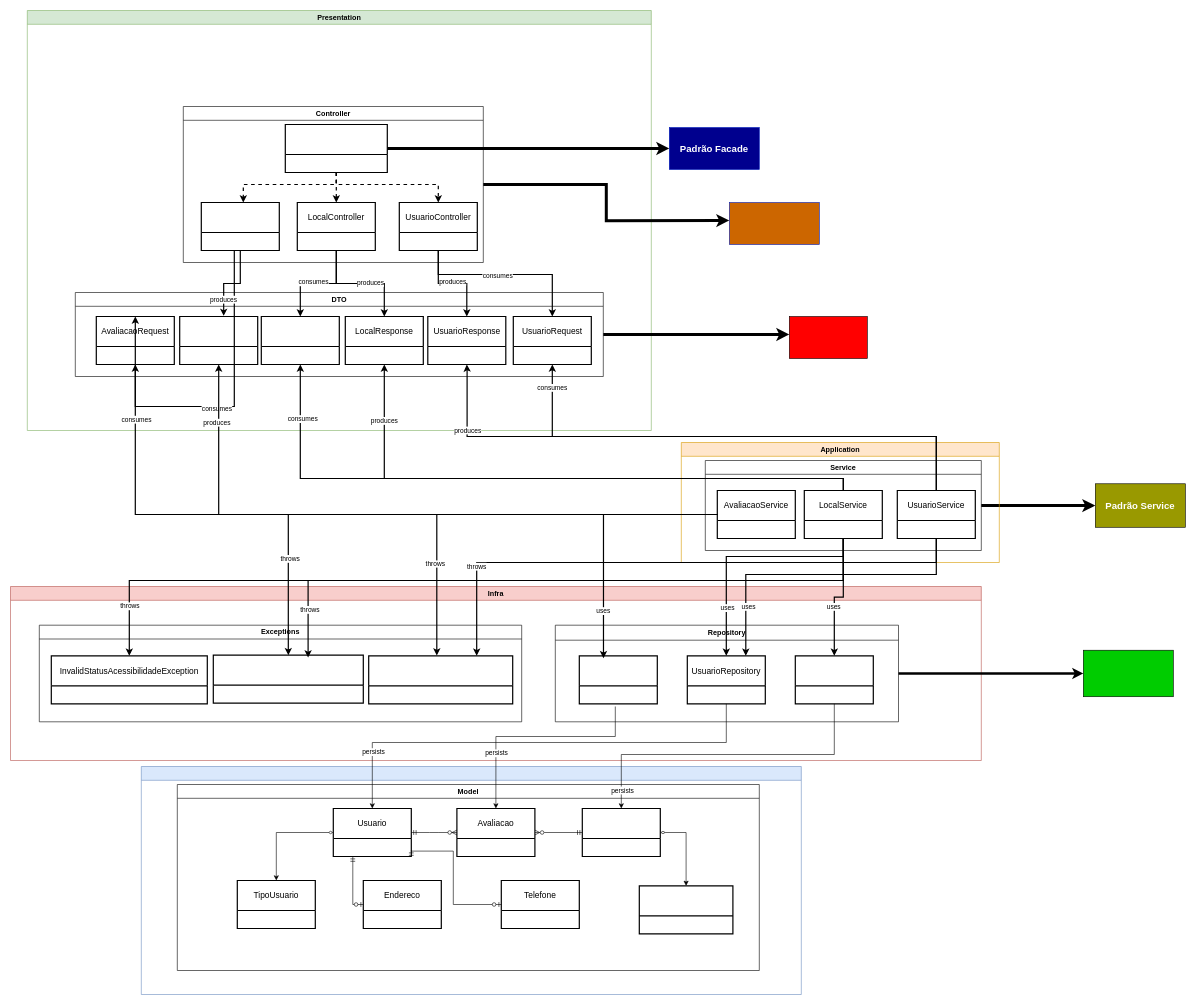
The diagram is 1196 pixels wide and 1005 high, and some of its shapes have lost their labels. The centre of each missing label's shape, as x and y in pixels:
"AvaliacaoController" goes at pixel 240 226.
"AvaliacaoRepository" goes at pixel 618 679.
"AvaliacaoResponse" goes at pixel 218 340.
"domain" goes at pixel 471 880.
"FacadeSingletonController" goes at pixel 336 148.
"Local" goes at pixel 621 832.
"LocalNotFoundException" goes at pixel 288 679.
"LocalRepository" goes at pixel 834 679.
"LocalRequest" goes at pixel 300 340.
"Padrão de Controller" goes at pixel 774 223.
"Padrão DTO" goes at pixel 828 337.
"Padrão Repository Pattern" goes at pixel 1128 673.
"StatusAcessibilidade" goes at pixel 685 909.
"UsuarioNotFoundException" goes at pixel 440 679.
